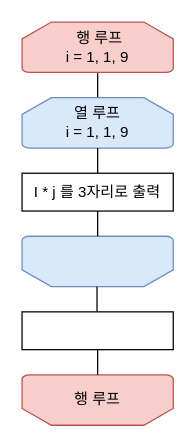
This 195x447 diagram has some shape labels left out. Here are the shapes that lost their labels. From the top down, the box of each, then its label:
(21, 235, 173, 287): 열 루프
(21, 311, 173, 350): 줄 바꿈
